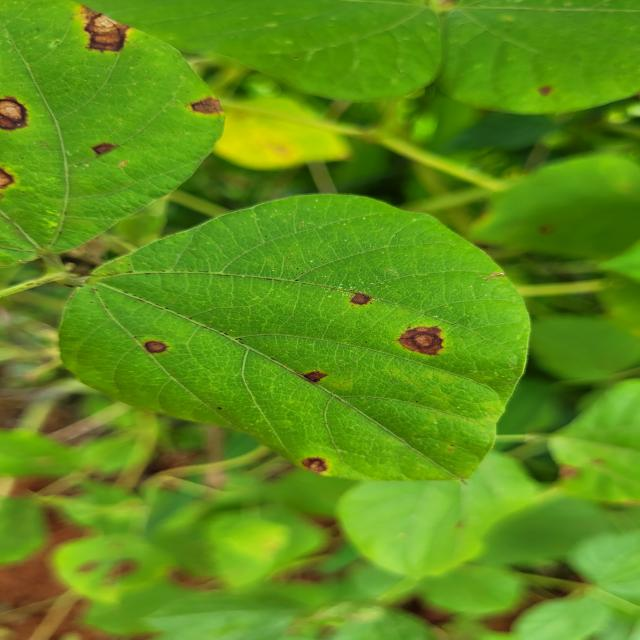Dolicos bean_cercospora leaf spot: (60, 195, 528, 481), (0, 0, 212, 272)
Dolicos bean_healthy: (331, 454, 549, 581)
